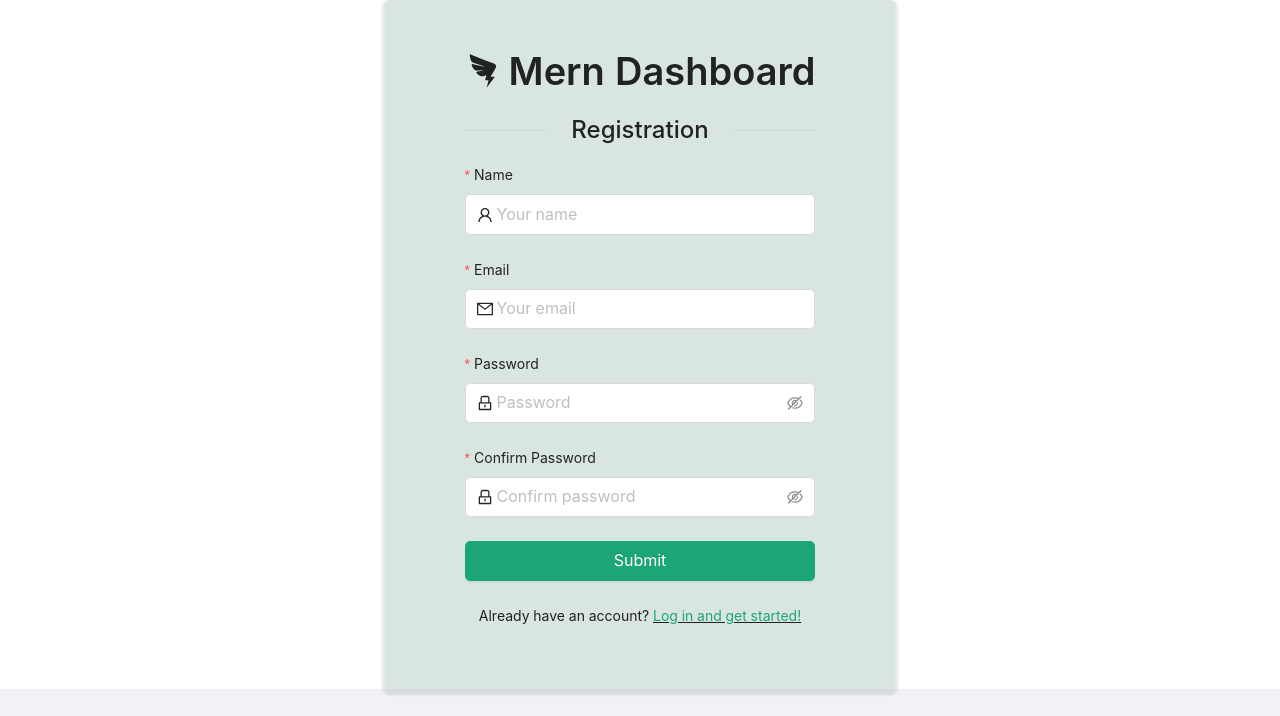
Registration › should navigate to Login page by link
Click the link "Log in and get started!" at (727, 616), box [653,607,801,624]
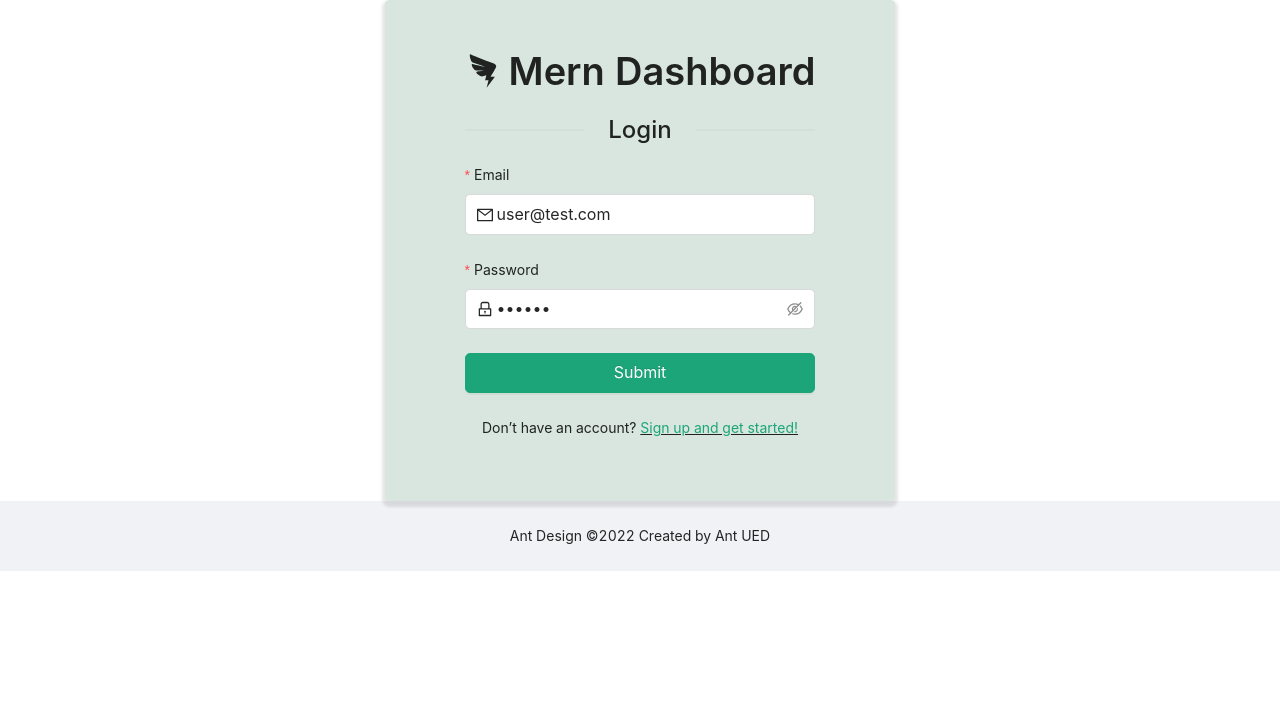
Check: the text "Login" is shown, box [608,115,672,144]
